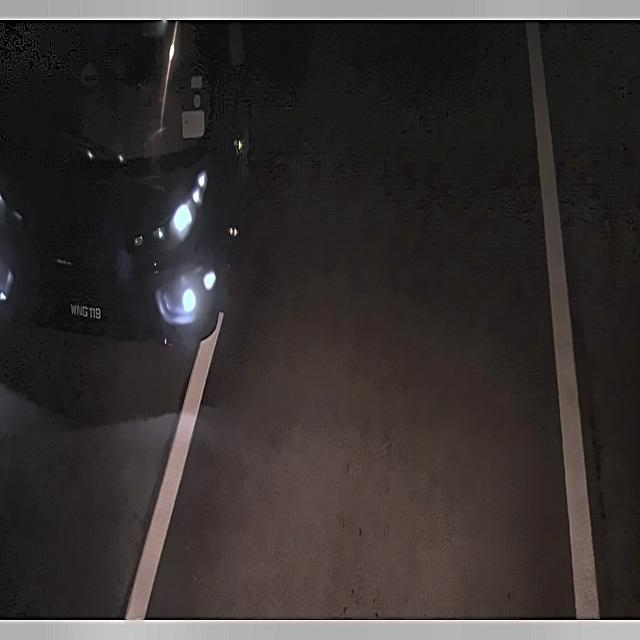car: (59, 298, 112, 327)
